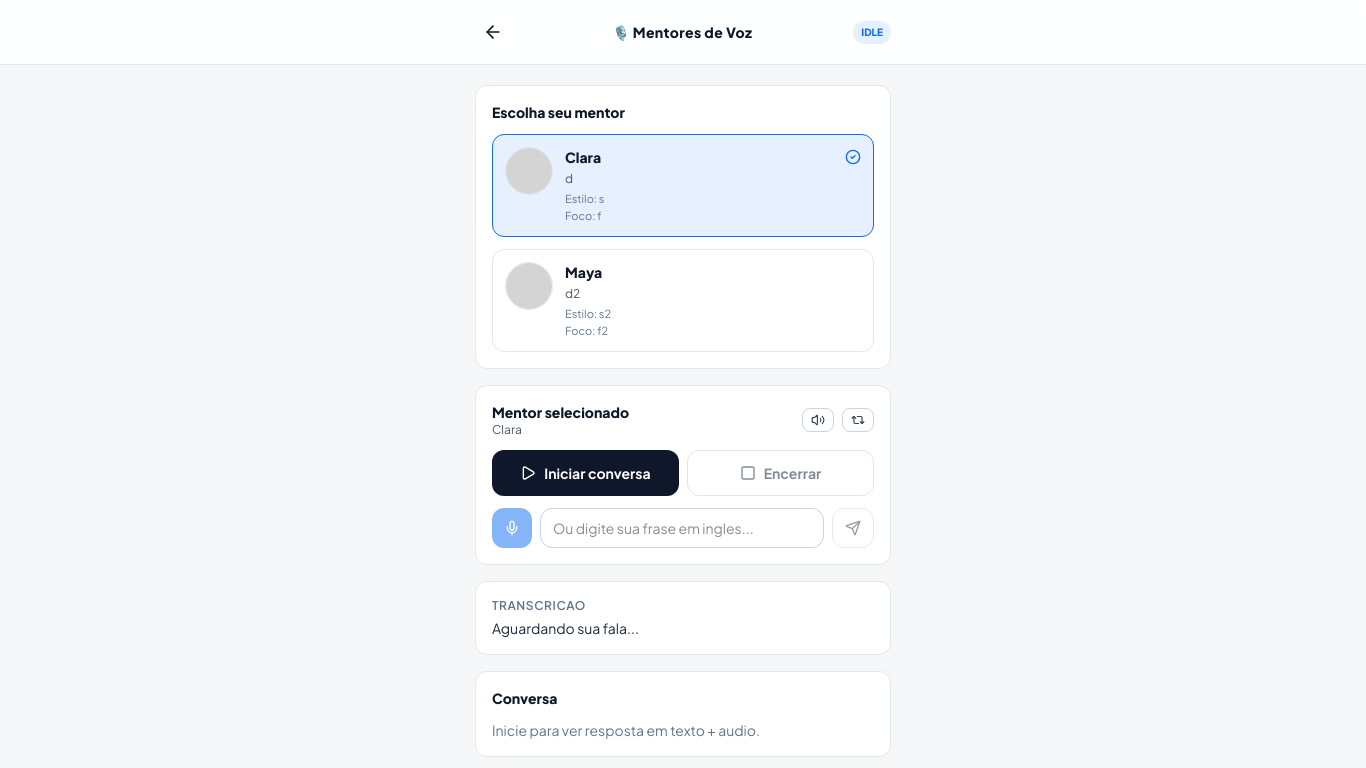
Scenario: VoiceChatScreen › permite PRO selecionar mentor e conversar
Expected: the button "Clara d Estilo: s Foco: f" is shown, [492,134,874,237]
Click the button "Maya d2 Estilo: s2 Foco: f2": point(529, 286) [492,249,874,352]
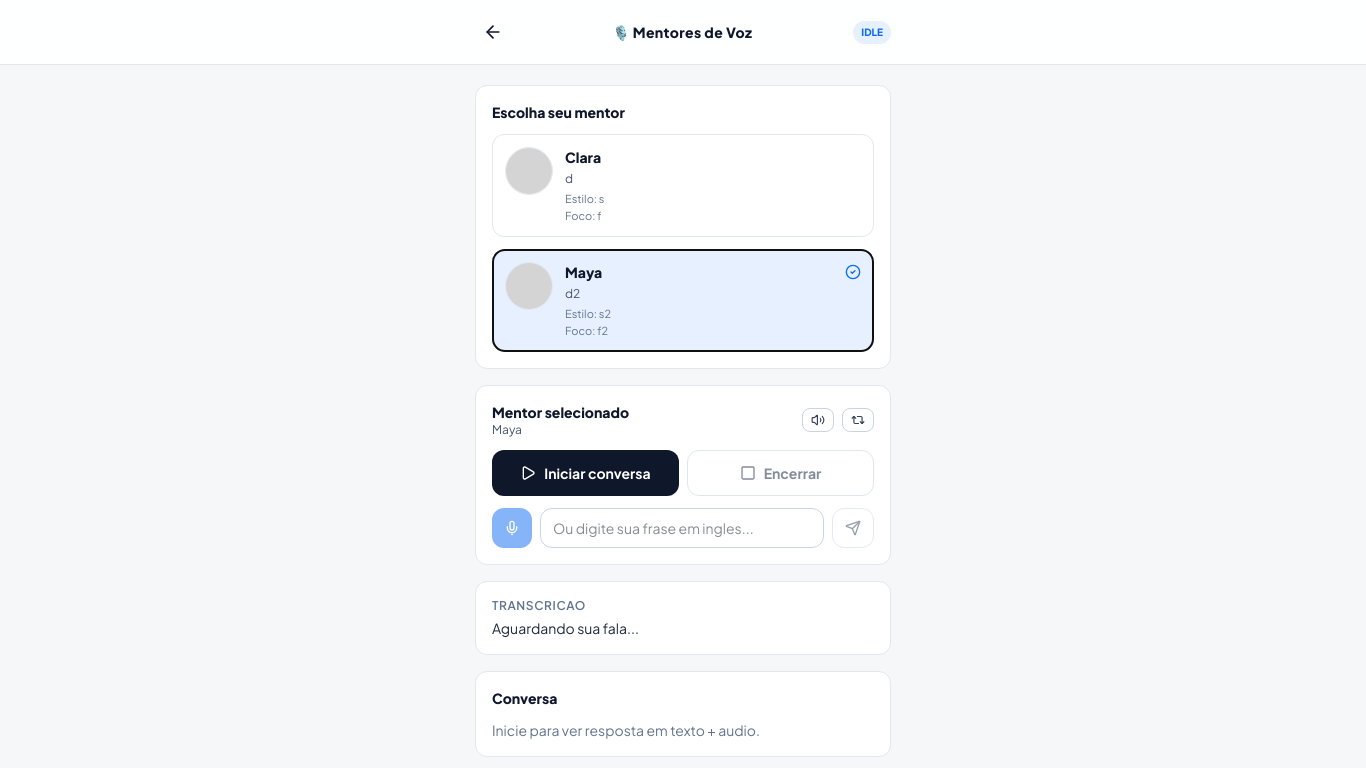
Click the button "Iniciar conversa": point(586, 473) [492,450,679,496]
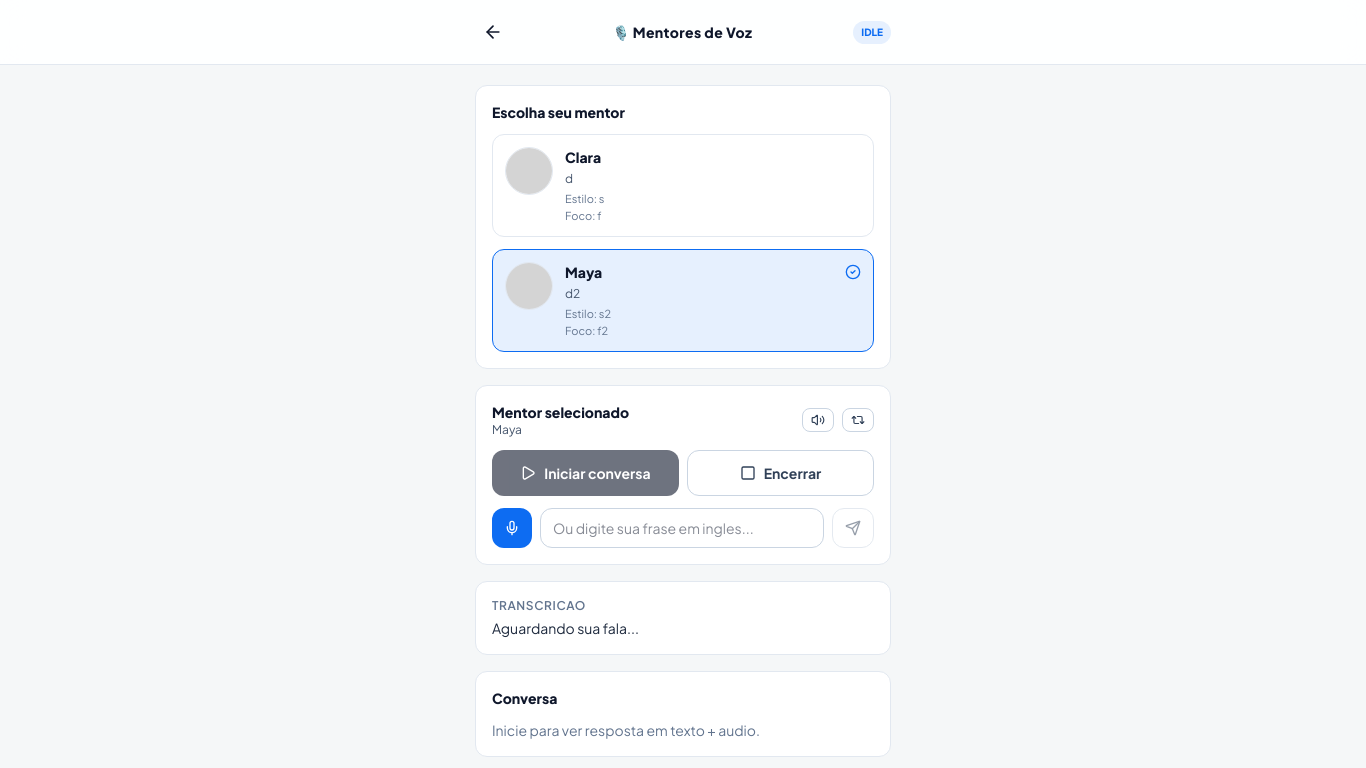
In the field with placeholder "Ou digite sua frase em ingles...": point(682, 528) [540,508,824,548], type "hello"
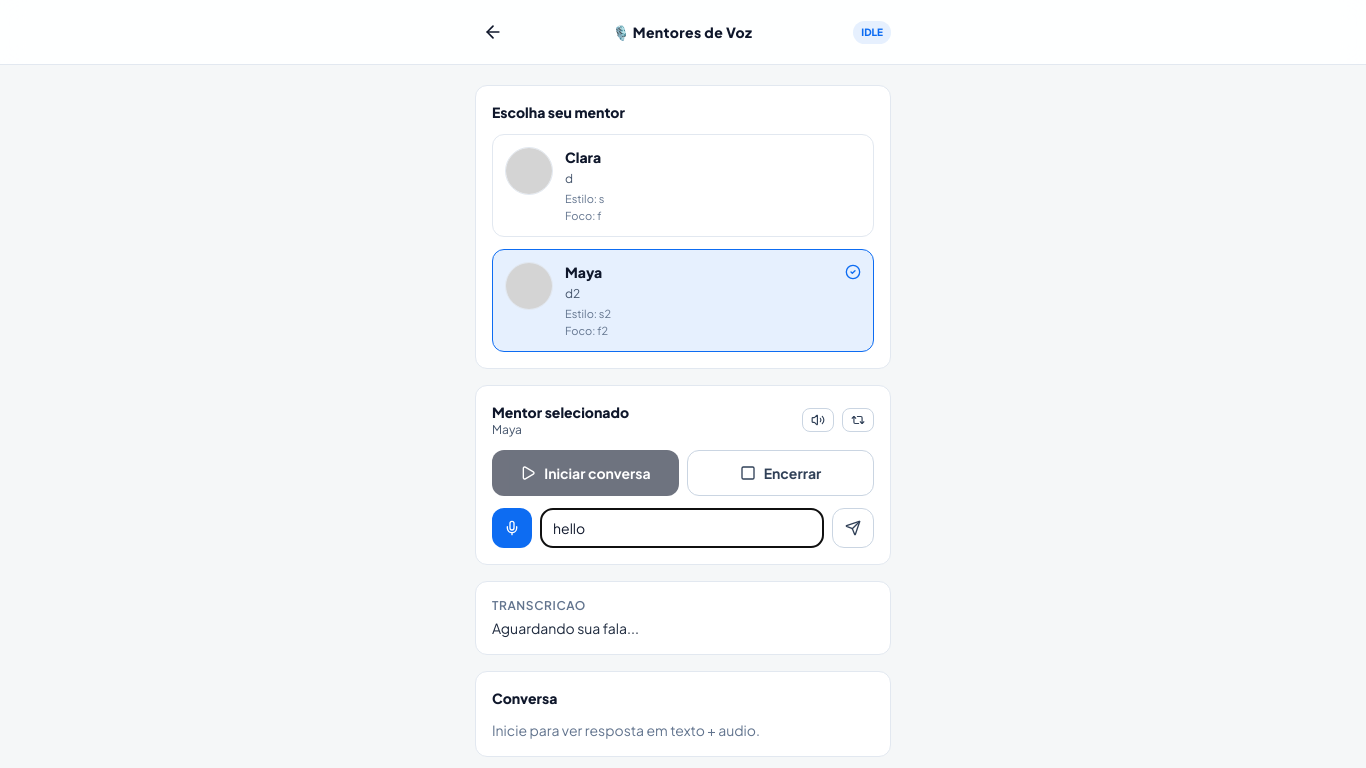
Click the button named "Enviar mensagem de voz": point(853, 528) [832,508,874,548]
(page scrolled)
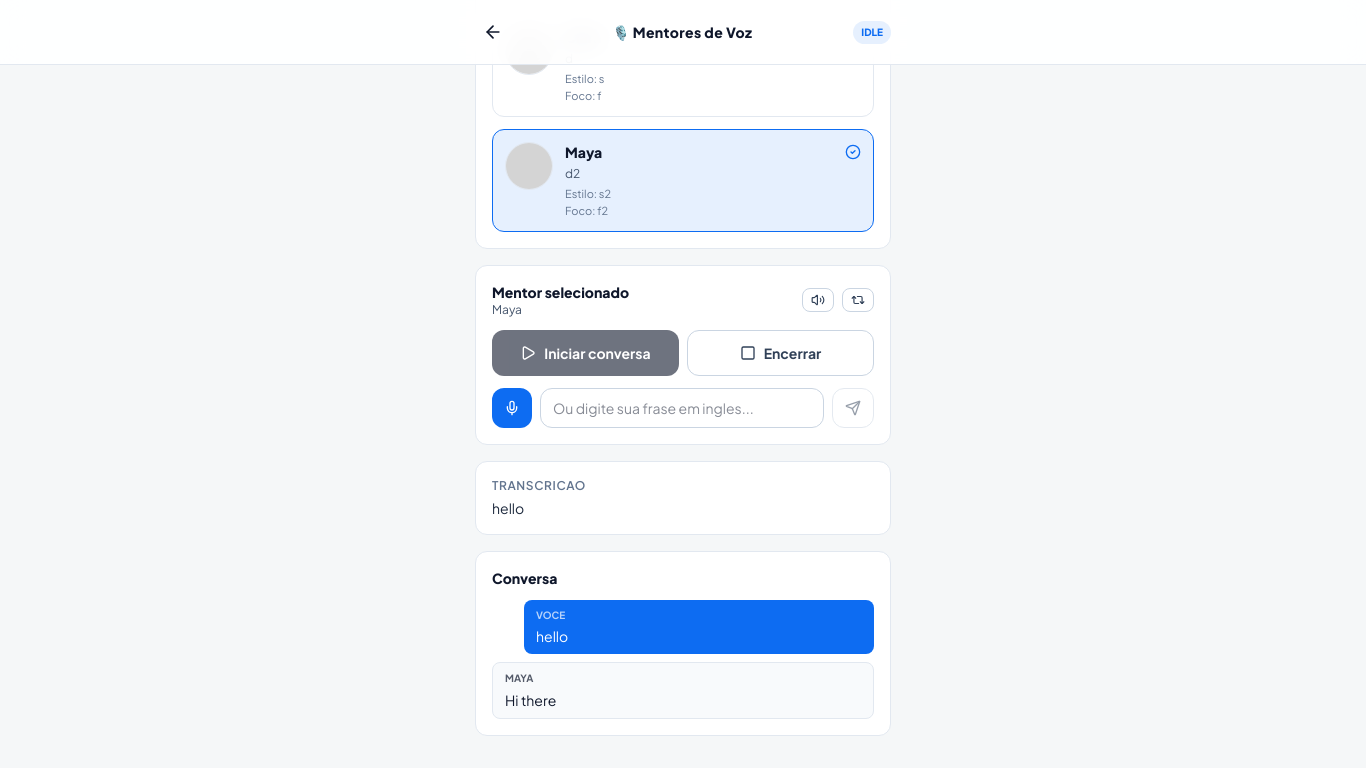
Now the text "Hi there" is shown, box [505,691,556,709]
